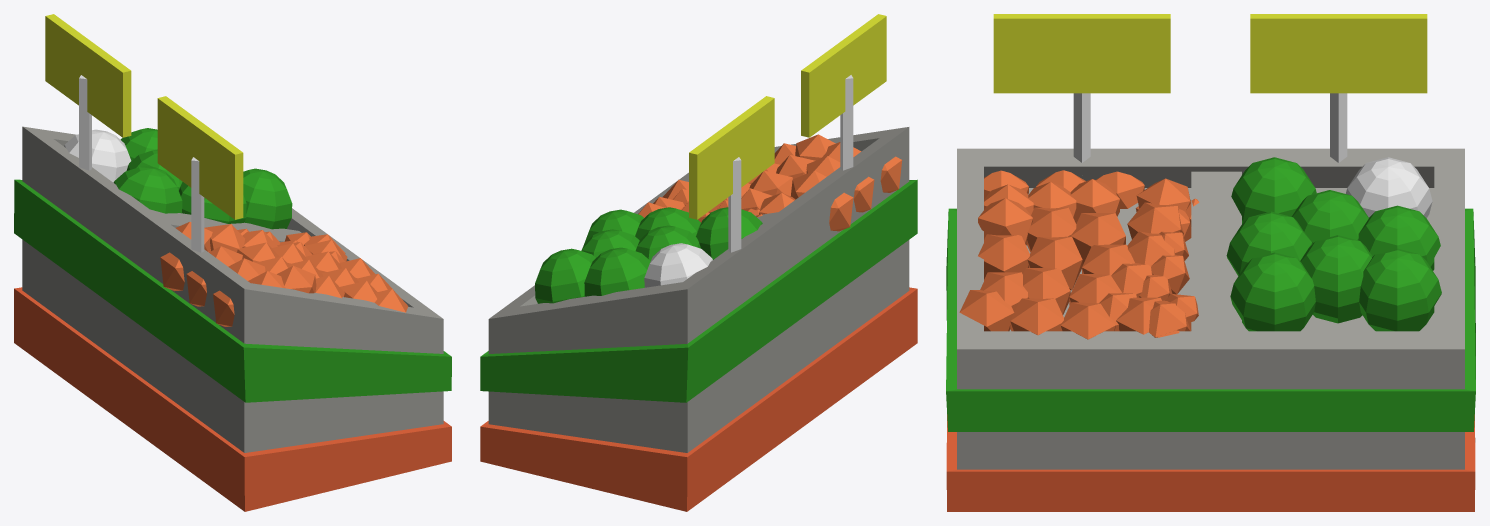
File: manav.fbx
The picture shows the model from 3 angles, left to right: view 1: azimuth 30°, elevation 25°; view 2: azimuth 150°, elevation 25°; view 3: azimuth 270°, elevation 25°; orthographic projection. The views are drawn at different scales.
Visible parts, largest first — view 1: Cube, Plane, Plane.001, Sphere.008, Sphere, Sphere.001, Cylinder, Cylinder.001, Sphere.006, Sphere.004, Icosphere.027, Icosphere.006 (+8 smaller); view 2: Cube, Plane, Plane.001, Sphere.007, Sphere.004, Sphere.001, Sphere, Sphere.003, Sphere.006, Cylinder, Cylinder.001, Sphere.005 (+9 smaller); view 3: Cube, Plane, Plane.001, Sphere.007, Sphere.008, Sphere.005, Sphere, Sphere.001, Sphere.006, Sphere.004, Sphere.003, Icosphere.010 (+27 smaller).
Part boxes in pixels (bbox=[...]): Cube: bbox=[14, 126, 451, 511]; Plane: bbox=[157, 96, 243, 219]; Plane.001: bbox=[45, 14, 131, 137]; Sphere.008: bbox=[243, 168, 292, 229]; Sphere: bbox=[113, 166, 182, 213]; Sphere.001: bbox=[64, 129, 131, 182]; Cylinder: bbox=[191, 157, 204, 252]; Cylinder.001: bbox=[79, 75, 91, 170]; Sphere.006: bbox=[179, 182, 246, 223]; Sphere.004: bbox=[120, 128, 157, 160]; Icosphere.027: bbox=[204, 224, 244, 252]; Icosphere.006: bbox=[277, 265, 316, 293]; Cube: bbox=[480, 127, 917, 511]; Plane: bbox=[801, 14, 886, 137]; Plane.001: bbox=[689, 96, 774, 219]; Sphere.007: bbox=[535, 248, 595, 303]; Sphere.004: bbox=[584, 247, 650, 296]; Sphere.001: bbox=[644, 243, 712, 287]; Sphere: bbox=[696, 207, 762, 259]; Sphere.003: bbox=[635, 225, 700, 260]; Sphere.006: bbox=[635, 207, 700, 240]; Cylinder: bbox=[840, 75, 853, 170]; Cylinder.001: bbox=[728, 157, 741, 252]; Sphere.005: bbox=[581, 229, 639, 257]; Cube: bbox=[946, 148, 1475, 511]; Plane: bbox=[993, 14, 1170, 93]; Plane.001: bbox=[1250, 14, 1427, 93]; Sphere.007: bbox=[1359, 248, 1441, 331]; Sphere.008: bbox=[1230, 252, 1315, 331]; Sphere.005: bbox=[1300, 235, 1372, 323]; Sphere: bbox=[1231, 157, 1316, 223]; Sphere.001: bbox=[1345, 157, 1432, 218]; Sphere.006: bbox=[1226, 211, 1312, 275]; Sphere.004: bbox=[1358, 205, 1440, 270]; Sphere.003: bbox=[1291, 190, 1368, 243]; Icosphere.010: bbox=[1027, 236, 1082, 290].
Bounding box in the file's own units: 320 × 484 × 599.
